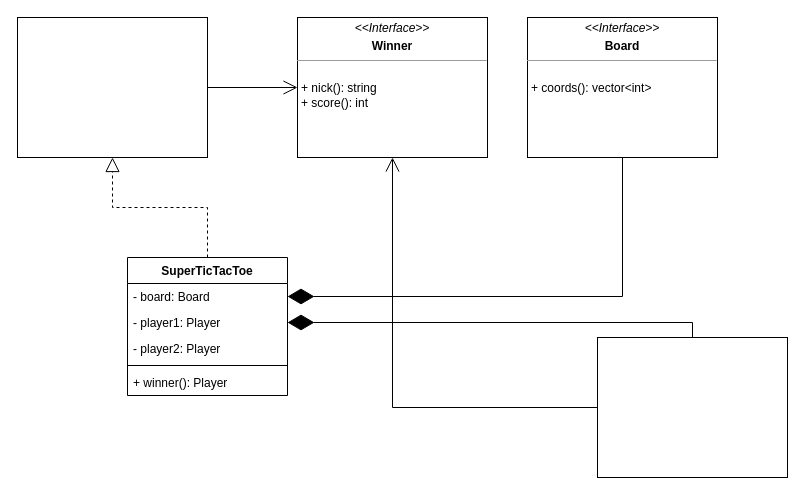
The diagram is 805 pixels wide and 495 high, and some of its shapes have lost their labels. Each missing label, with the box of its shape:
<<Interface>> Game + winner(): Winner: (16, 16, 208, 158)
<<Interface>> Player + as_winner(): Winner + coords(): int: (596, 336, 788, 478)
